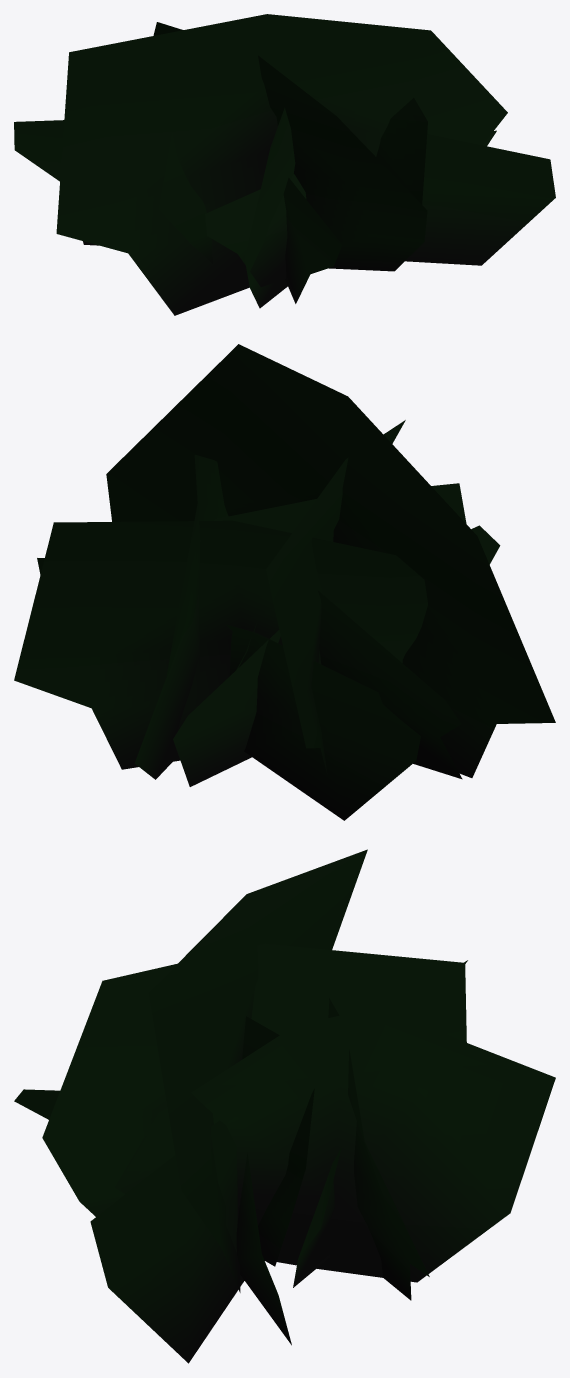
Rendered from Grass_Instanced_C2.fbx.
3 views of the same model, one above another, from view 1: azimuth 30°, elevation 25°; view 2: azimuth 150°, elevation 25°; view 3: azimuth 270°, elevation 25° (orthographic). The views are drawn at different scales.
Visible parts, largest first — view 1: GIC2_LOD0; view 2: GIC2_LOD0; view 3: GIC2_LOD0.
Boxes of the visible parts, x1,y1,x2,y2 form: GIC2_LOD0: (14,14,555,315); GIC2_LOD0: (14,344,555,820); GIC2_LOD0: (14,849,555,1363).
Size of what is drawn, in the model's own units: 1.08 by 0.6888 by 0.9599.
